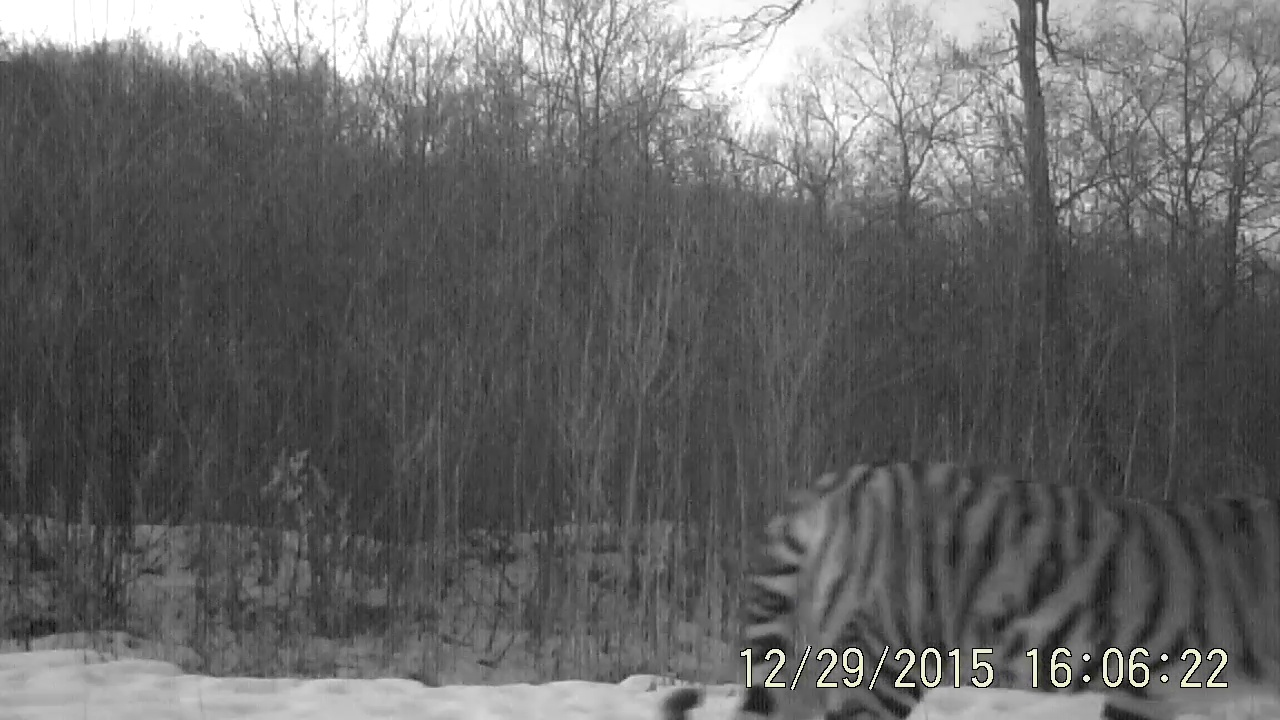Tiger: (701, 286, 1280, 720)
